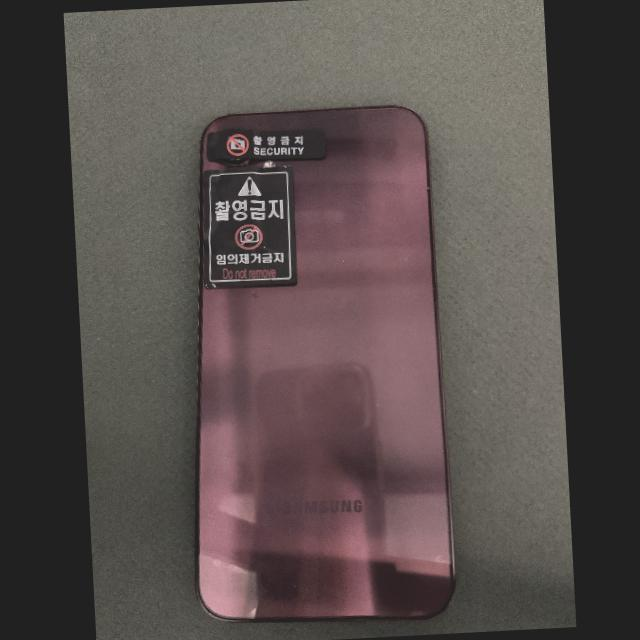phone: (195, 105, 455, 623)
sticker: (205, 167, 298, 289), (207, 130, 326, 162)
